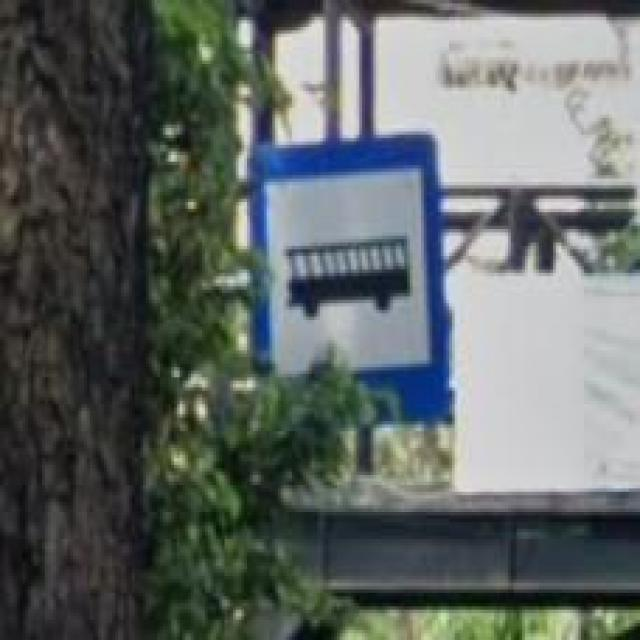traffic sign: (250, 142, 452, 378)
